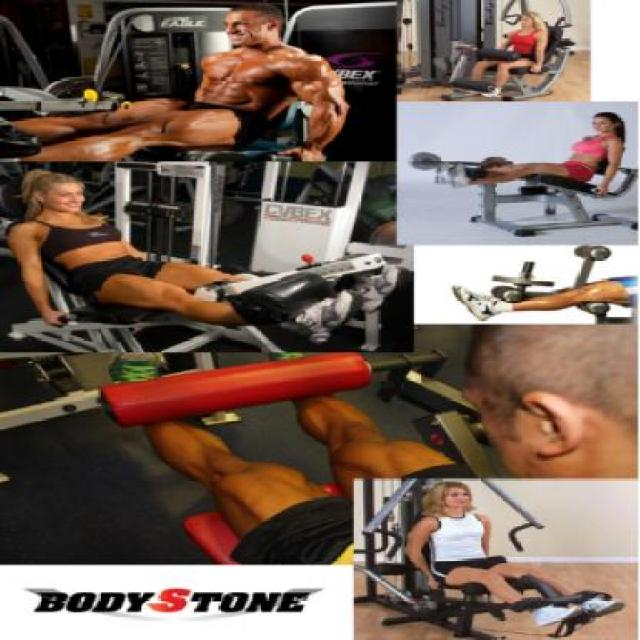leg extension: (8, 154, 402, 338), (6, 0, 400, 158), (411, 103, 640, 239), (416, 0, 618, 105)
